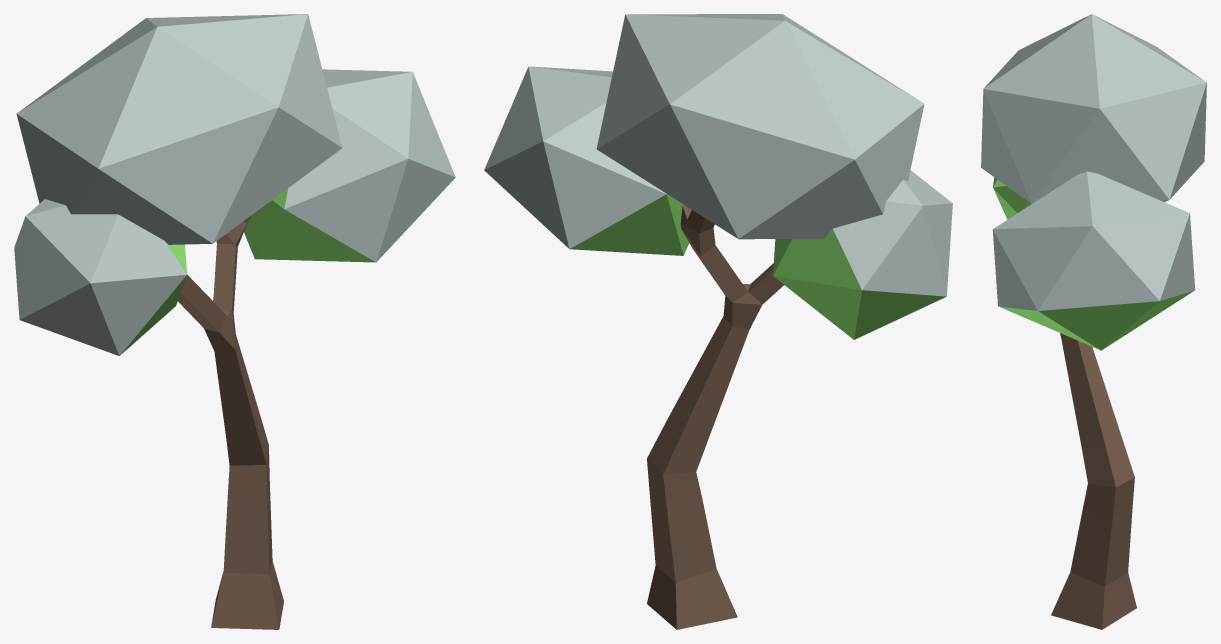
File: tree_frozen3.fbx
3 renders of one model, left to right at view 1: azimuth 30°, elevation 25°; view 2: azimuth 150°, elevation 25°; view 3: azimuth 270°, elevation 25°, orthographic. The views are drawn at different scales.
Parts seen in each view (by area): view 1: tree_frozen3; view 2: tree_frozen3; view 3: tree_frozen3.
Boxes of the visible parts, x1=… form: tree_frozen3: x1=14, y1=14, x2=455, y2=629; tree_frozen3: x1=484, y1=14, x2=952, y2=629; tree_frozen3: x1=981, y1=14, x2=1206, y2=629.
Bounding box in the file's own units: 2.77 × 1.42 × 3.87.
